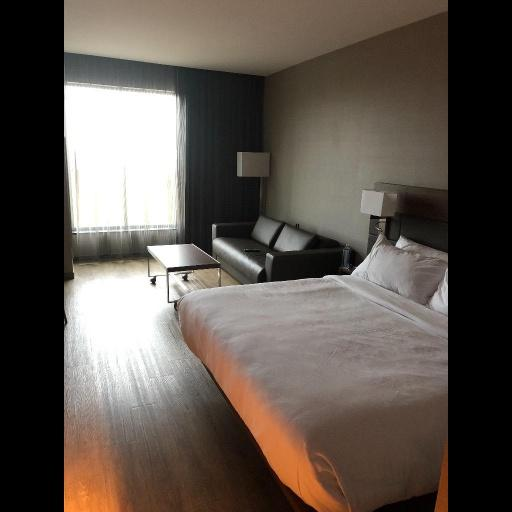clean_bed: (179, 181, 448, 511)
clean_floor: (61, 257, 293, 511)
lamp: (361, 187, 404, 239), (237, 149, 275, 204)
organised_pillow: (350, 235, 450, 318)
organized table: (147, 240, 221, 302)
